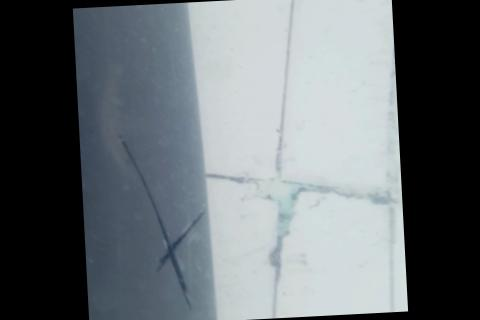keretakan: (112, 129, 211, 315)
